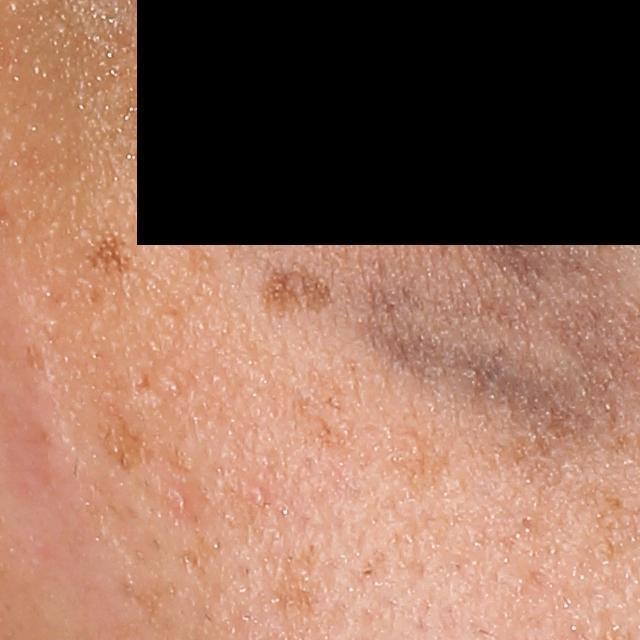melasma: (259, 351, 455, 507), (256, 537, 334, 636), (245, 259, 342, 328), (89, 398, 160, 489), (112, 568, 184, 622), (170, 529, 236, 586), (81, 234, 133, 283)
